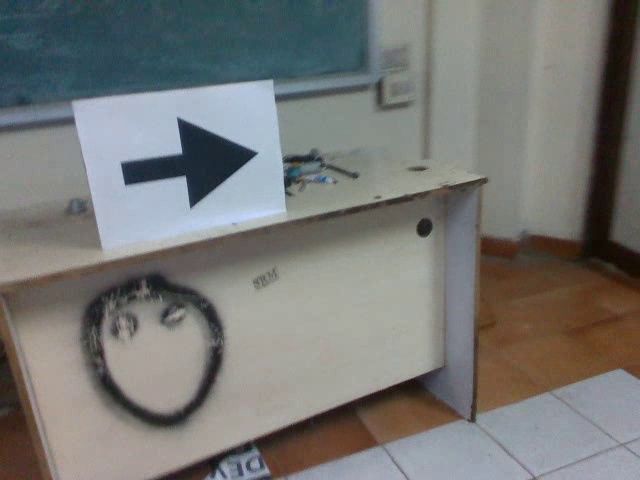Right: (111, 111, 262, 216)
